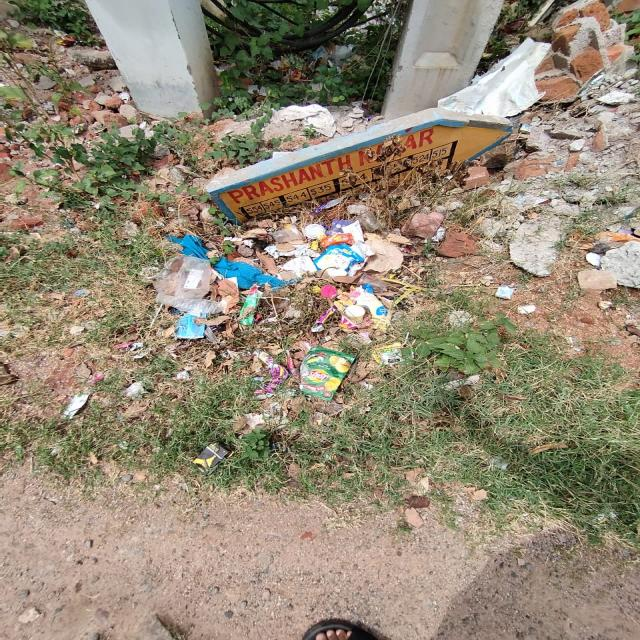dry: (427, 35, 579, 124), (288, 335, 368, 412), (359, 235, 410, 279), (63, 389, 94, 422), (254, 248, 286, 276)
